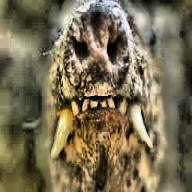boar: (40, 0, 180, 191)
